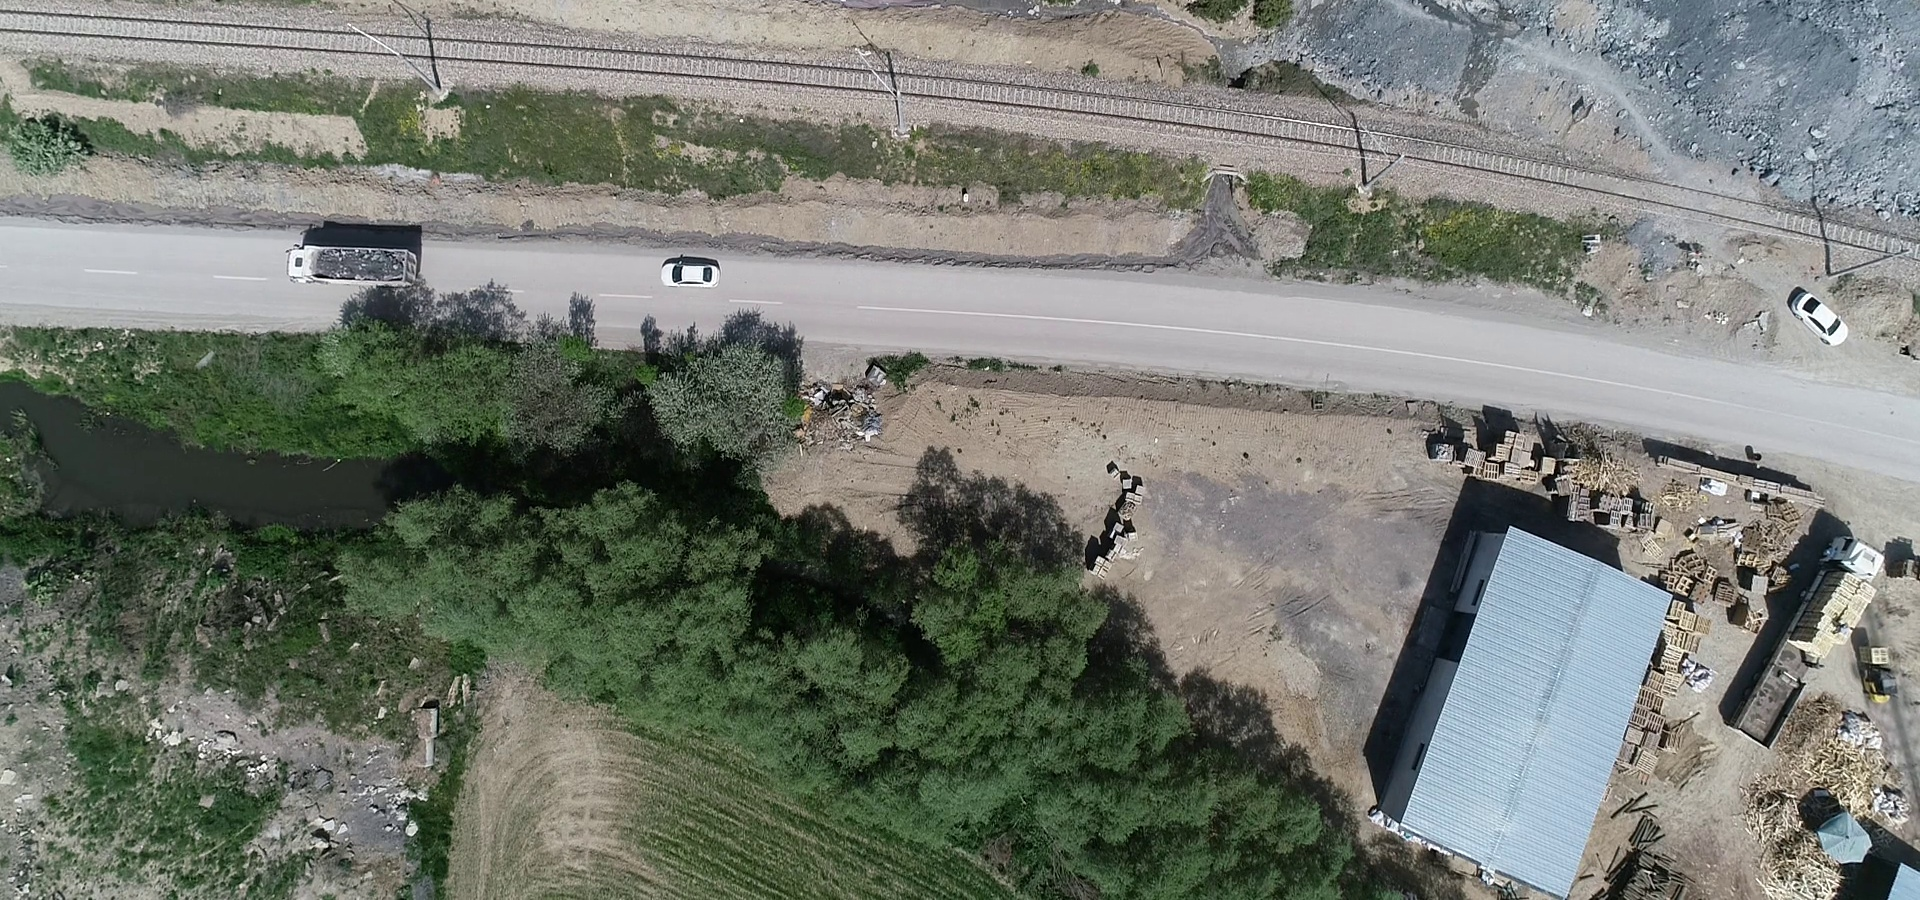araba: (1782, 285, 1847, 354), (658, 253, 724, 295)
kamyon: (1718, 518, 1904, 754), (280, 224, 416, 294)
